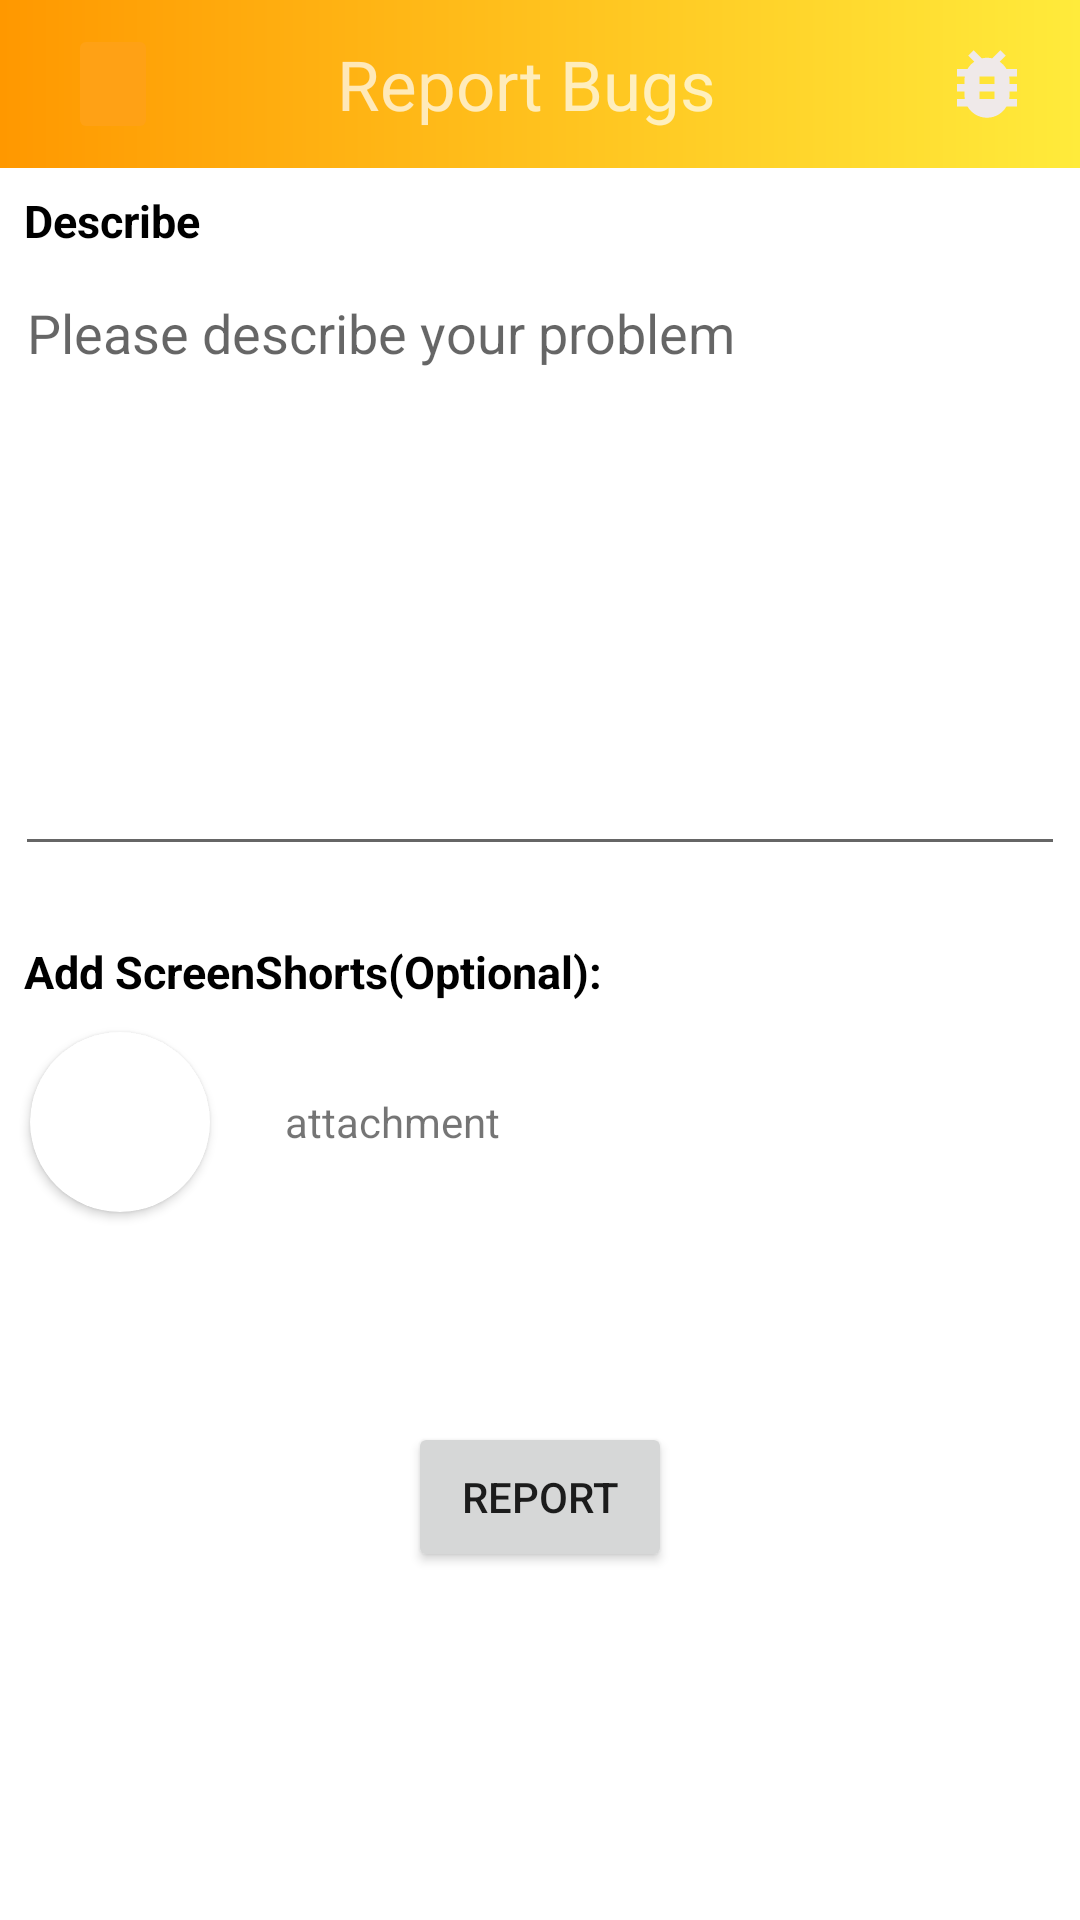

Where to tap for icons on this 1080 × 1920 app screen, as (x=x, y=y):
bug report: (x=987, y=84)
